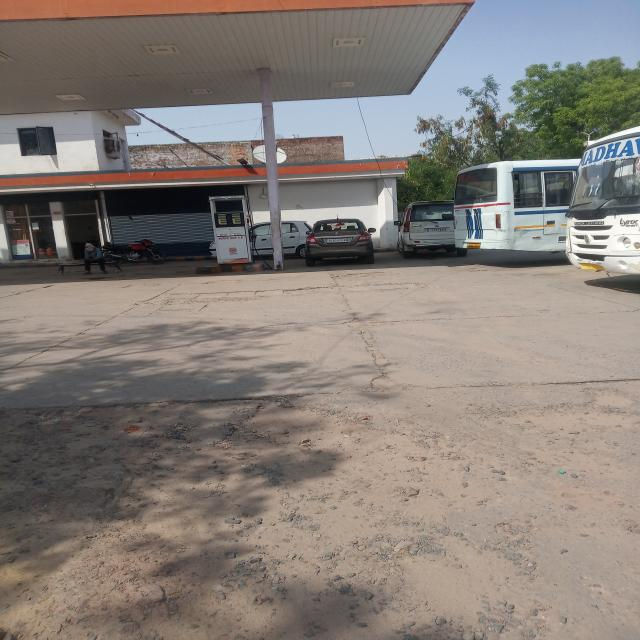Bus: (569, 134, 640, 270), (446, 167, 550, 250)
